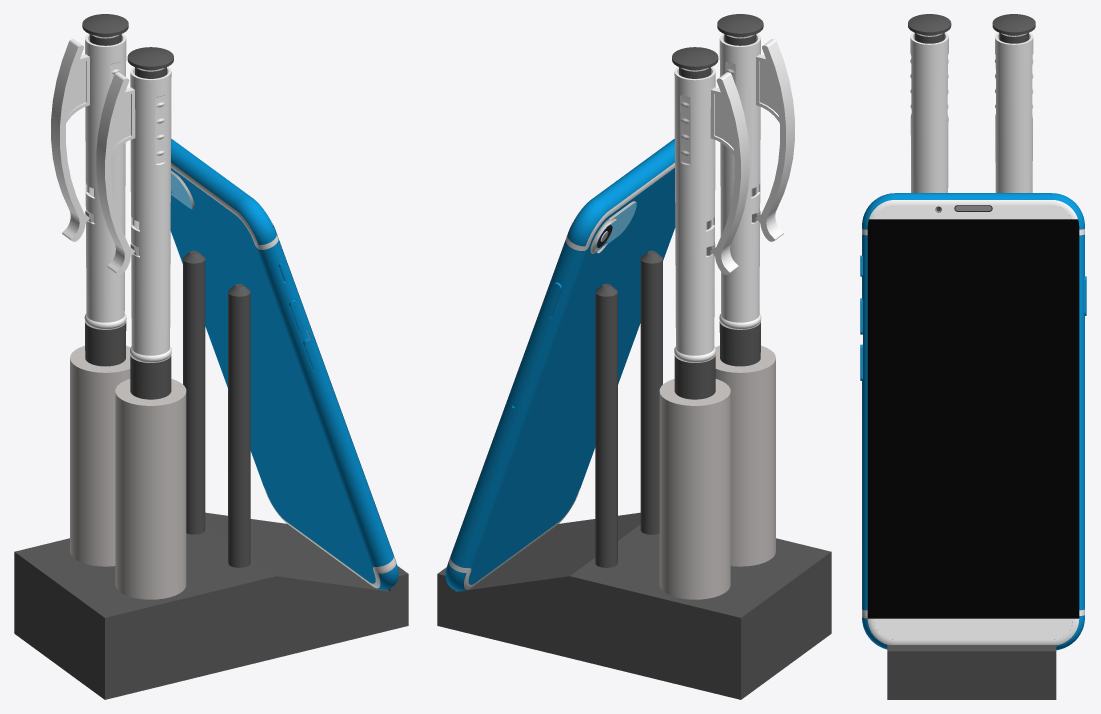
Rendered from config20.glb.
The picture shows the model from 3 angles, left to right: view 1: azimuth 30°, elevation 25°; view 2: azimuth 150°, elevation 25°; view 3: azimuth 270°, elevation 25°; orthographic projection. The views are drawn at different scales.
Visible parts, largest first — view 1: Socle-2, User Library-Iphone 8 v2-3, SADC-SADC Pen_SADC 001-1 (×2), Porte stylo-2, Porte stylo-1, Module téléphone-1, Module téléphone-2, SADC-SADC Pen_SADC 002-2 (×2), SADC-SADC Pen_SADC 005-1 (×2); view 2: Socle-2, User Library-Iphone 8 v2-3, SADC-SADC Pen_SADC 001-1 (×2), Porte stylo-1, Porte stylo-2, Module téléphone-2, Module téléphone-1, SADC-SADC Pen_SADC 002-2 (×2), SADC-SADC Pen_SADC 005-1 (×2); view 3: User Library-Iphone 8 v2-3, SADC-SADC Pen_SADC 001-1 (×2), Socle-2, SADC-SADC Pen_SADC 005-1 (×2).
Boxes of the visible parts, bbox=[...] form: Socle-2: bbox=[14, 512, 408, 699]; User Library-Iphone 8 v2-3: bbox=[170, 139, 398, 589]; SADC-SADC Pen_SADC 001-1 (×2): bbox=[51, 33, 171, 362]; Porte stylo-2: bbox=[115, 379, 186, 599]; Porte stylo-1: bbox=[70, 345, 130, 566]; Module téléphone-1: bbox=[228, 283, 250, 567]; Module téléphone-2: bbox=[183, 250, 205, 534]; SADC-SADC Pen_SADC 002-2 (×2): bbox=[85, 321, 171, 399]; SADC-SADC Pen_SADC 005-1 (×2): bbox=[82, 14, 173, 255]; Socle-2: bbox=[437, 512, 831, 699]; User Library-Iphone 8 v2-3: bbox=[445, 139, 675, 591]; SADC-SADC Pen_SADC 001-1 (×2): bbox=[674, 33, 794, 362]; Porte stylo-1: bbox=[659, 379, 730, 599]; Porte stylo-2: bbox=[715, 345, 775, 566]; Module téléphone-2: bbox=[595, 283, 617, 567]; Module téléphone-1: bbox=[640, 250, 662, 534]; SADC-SADC Pen_SADC 002-2 (×2): bbox=[674, 321, 760, 399]; SADC-SADC Pen_SADC 005-1 (×2): bbox=[672, 14, 763, 255]; User Library-Iphone 8 v2-3: bbox=[860, 193, 1086, 650]; SADC-SADC Pen_SADC 001-1 (×2): bbox=[910, 32, 1033, 192]; Socle-2: bbox=[887, 645, 1056, 699]; SADC-SADC Pen_SADC 005-1 (×2): bbox=[908, 14, 1035, 43].
Bounding box in the file's own units: 0.0984 × 0.1899 × 0.068.
41 materials, 1 textured.
